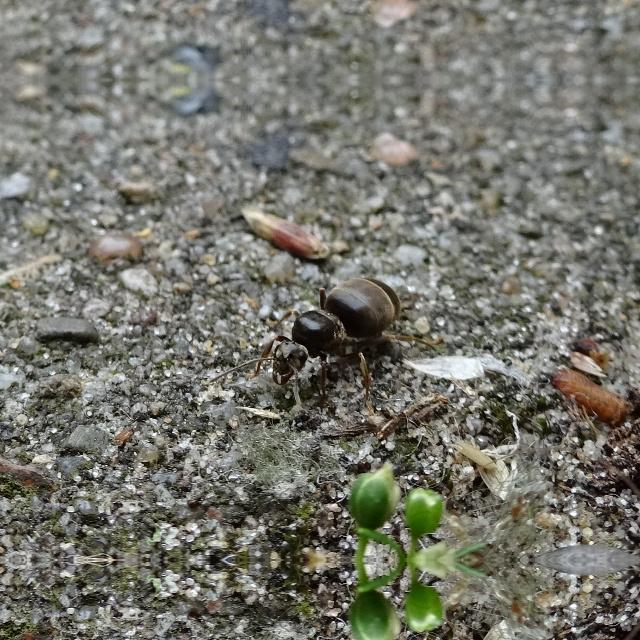Lasius: (242, 238, 418, 420)
